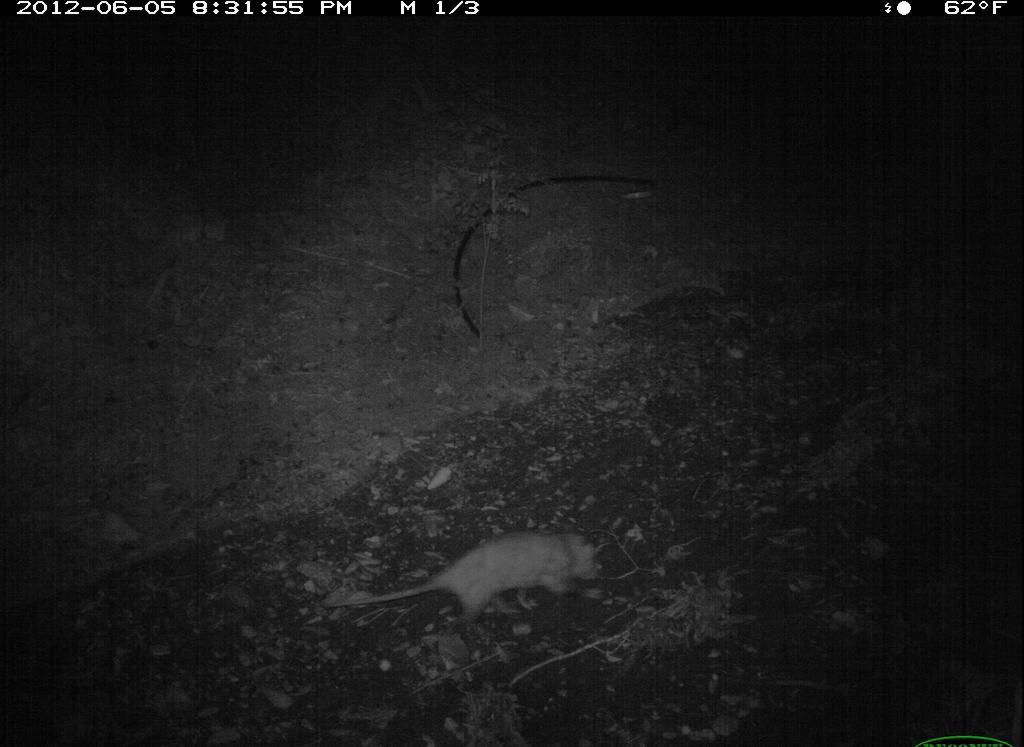opossum: (324, 529, 615, 632)
